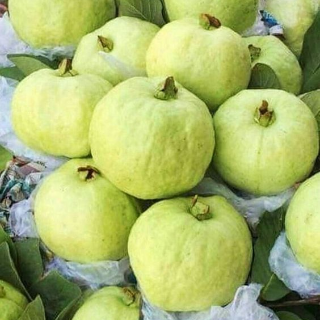oi: (90, 76, 214, 199), (128, 195, 252, 310), (213, 87, 320, 192)
